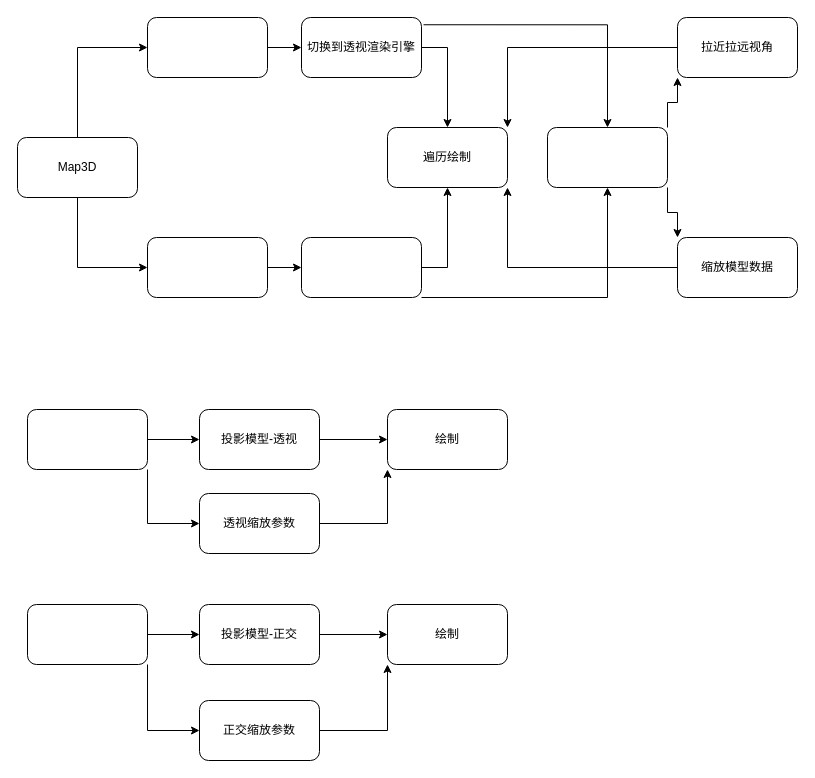
Image size: 815x778. Some labels were removed from this diagram. Each missing label, with the centre of its shape:
切换到正交渲染引擎: (x=361, y=267)
正交: (x=207, y=267)
正交引擎: (x=87, y=634)
缩放: (x=607, y=157)
透视: (x=207, y=47)
透视引擎: (x=87, y=439)
